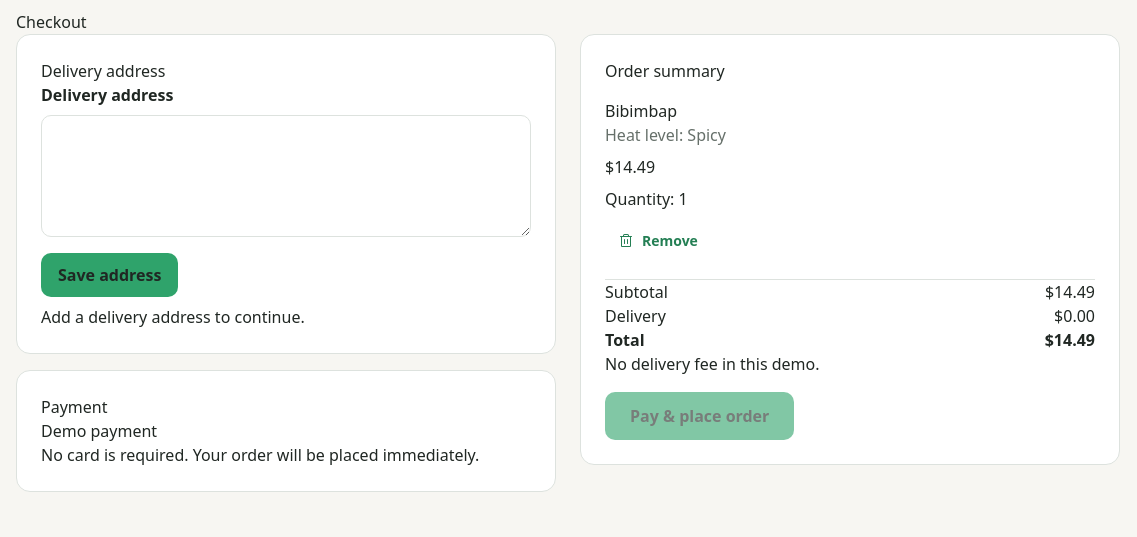
CheckoutPage › requires and saves a 1–500 character address before ordering
Expected: the button "Pay & place order" is disabled, [605,392,794,440]
Click the button "Save address" at (110, 275), box [41,253,178,297]
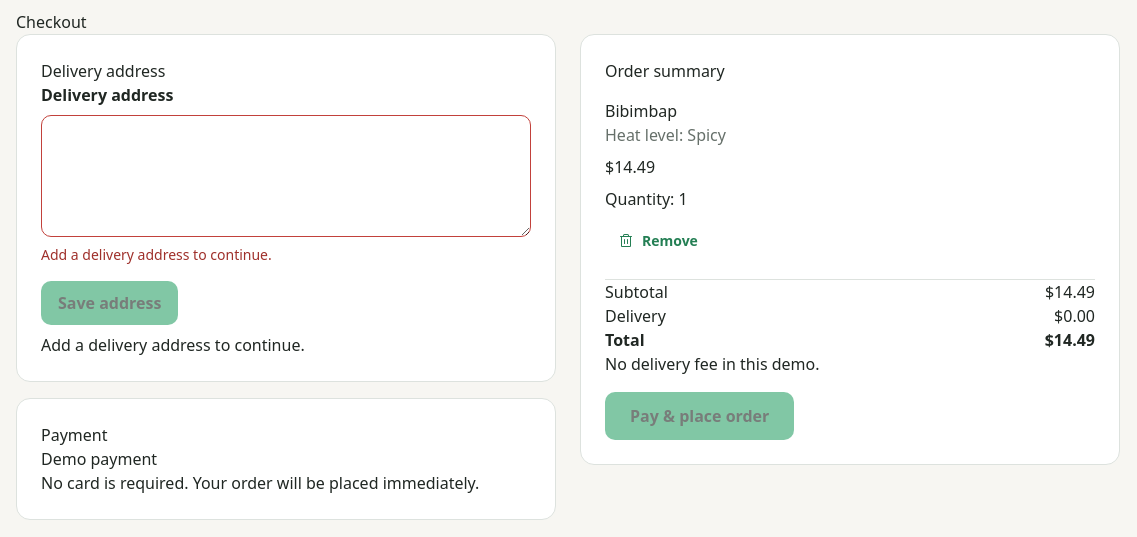
Now the 1st text "Add a delivery address to continue." is shown, box [41,245,272,264]
Type "  10 Main Street  " into the text box labelled "Delivery address" at (286, 176), box [41,115,531,237]
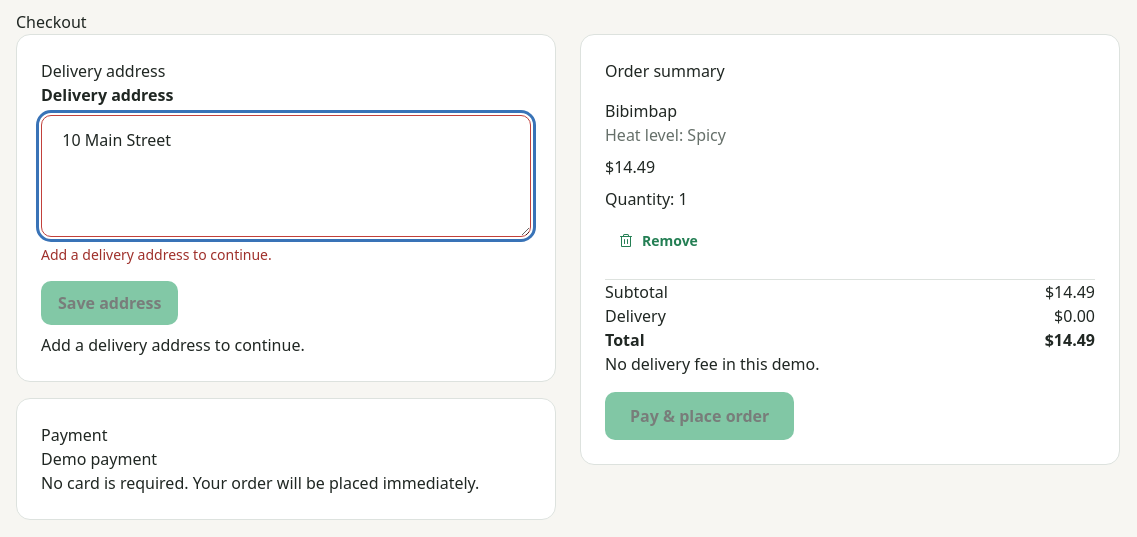
Click the button "Save address" at (110, 303), box [41,281,178,325]
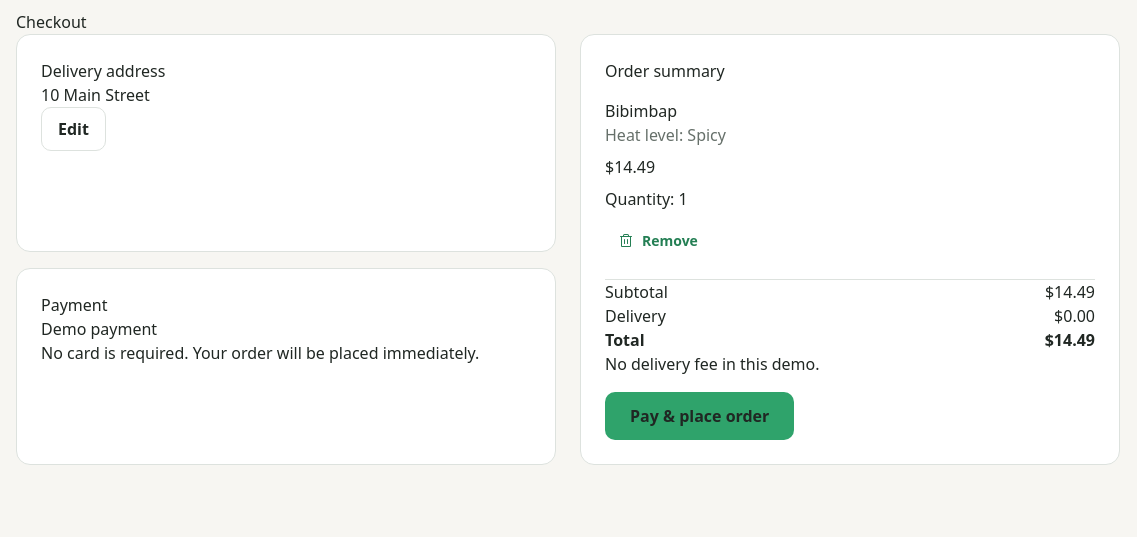
Now the text "10 Main Street" is shown, box [41,84,150,106]
Now the button "Pay & place order" is enabled, box [605,392,794,440]
